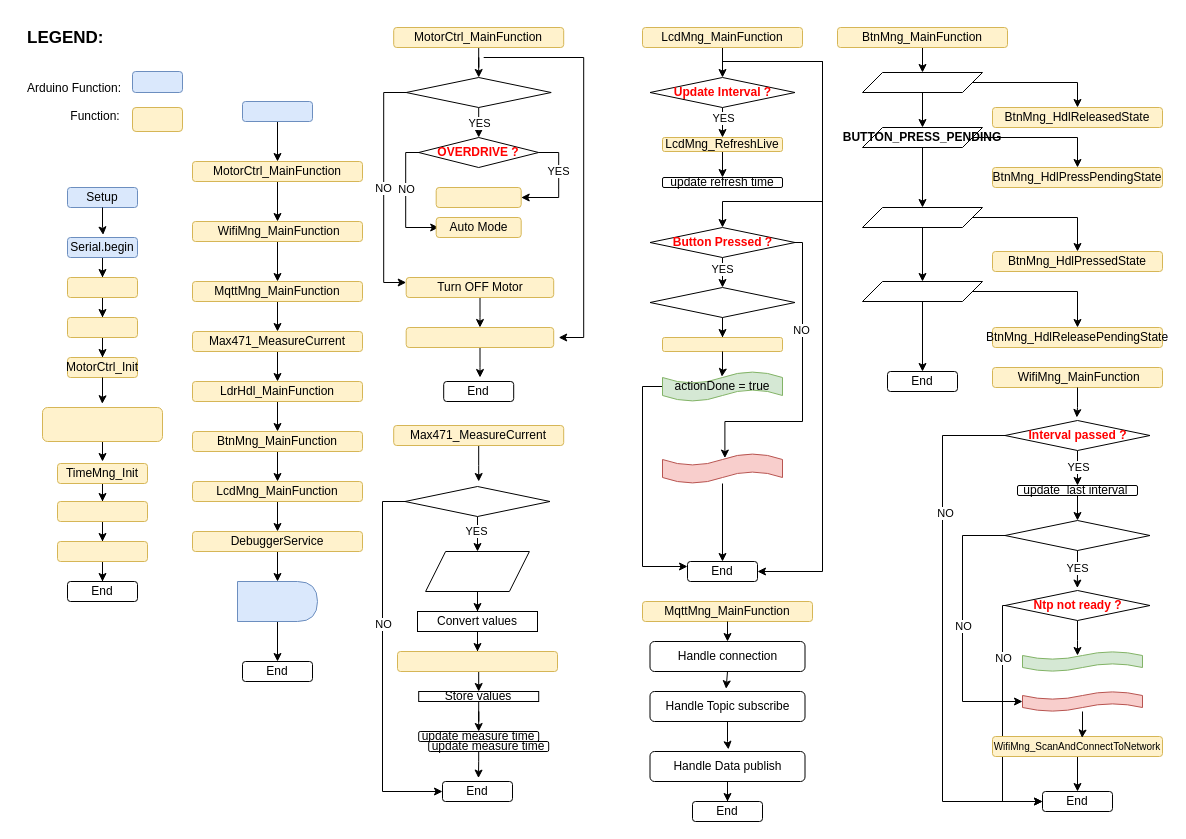
This 1186x839 diagram has some shape labels left out. Here are the shapes that lost their labels. From the top down, the centre of each, then its label:
At (x=478, y=92): "MQTT CONNECTED ?".
At (x=922, y=82): "BUTTON_RELEASED".
At (x=277, y=111): "Loop".
At (x=478, y=197): "Manual Mode".
At (x=922, y=217): "BUTTON_PRESSED".
At (x=102, y=287): "Max471_Init".
At (x=722, y=302): "Button Pressed End ?".
At (x=922, y=291): "BUTTON_RELEASE_PENDING".
At (x=102, y=327): "LdrHdl_Init".
At (x=479, y=337): "MotorCtrl_ProcessRPM".
At (x=722, y=344): "LcdMng_NextScreen".
At (x=102, y=424): "WifiMng_LoadNetworksInVector".
At (x=722, y=468): "actionDone = false".
At (x=102, y=511): "LcdMng_Init".
At (x=477, y=501): "Measure Interval ?".
At (x=102, y=551): "MqttMng_Init".
At (x=1077, y=535): "Wifi connected ?".
At (x=477, y=571): "Read with oversampling".
At (x=277, y=601): "delay 20ms".
At (x=477, y=661): "Apply moving average filter".
At (x=1082, y=661): "ntpReady = true".
At (x=1082, y=701): "ntpReady = false".
